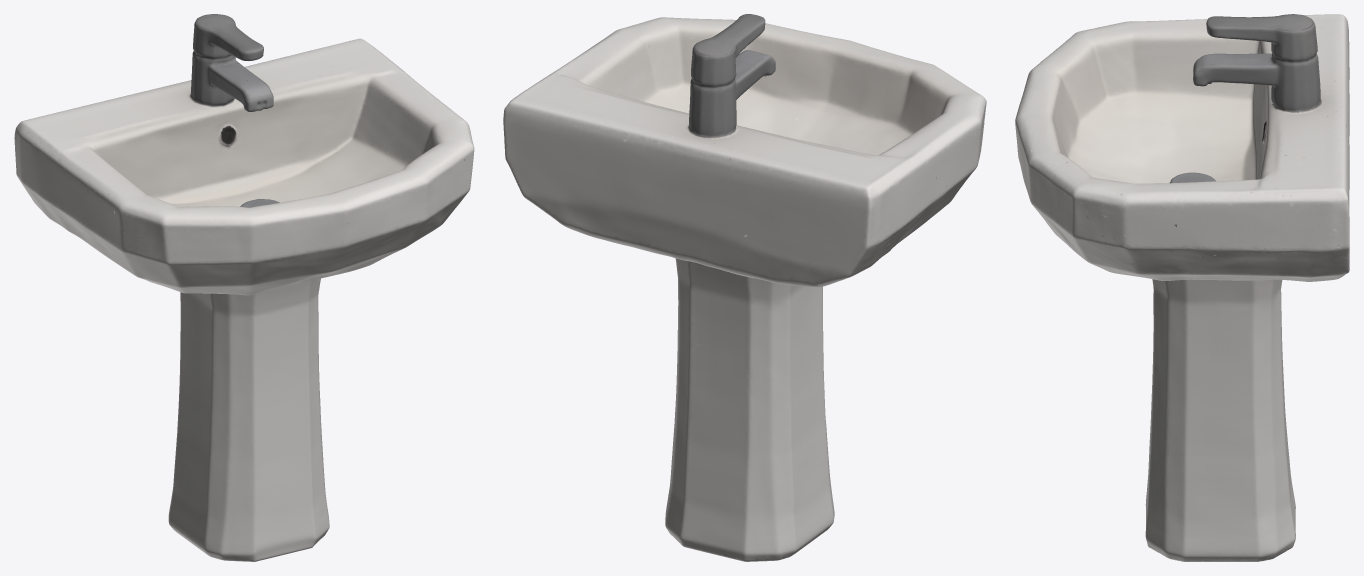
Rendered from sink.glb.
3 renders of one model, left to right at view 1: azimuth 30°, elevation 25°; view 2: azimuth 150°, elevation 25°; view 3: azimuth 270°, elevation 25°, orthographic. The views are drawn at different scales.
Parts seen in each view (by area): view 1: world; view 2: world; view 3: world.
Boxes of the visible parts, x1,y1,x2,y2 form: world: (14, 14, 474, 561); world: (503, 14, 986, 561); world: (1015, 14, 1349, 561).
Bounding box in the file's own units: 0.7642 × 1 × 0.5914.
Materials: 1 (1 with a texture image).
